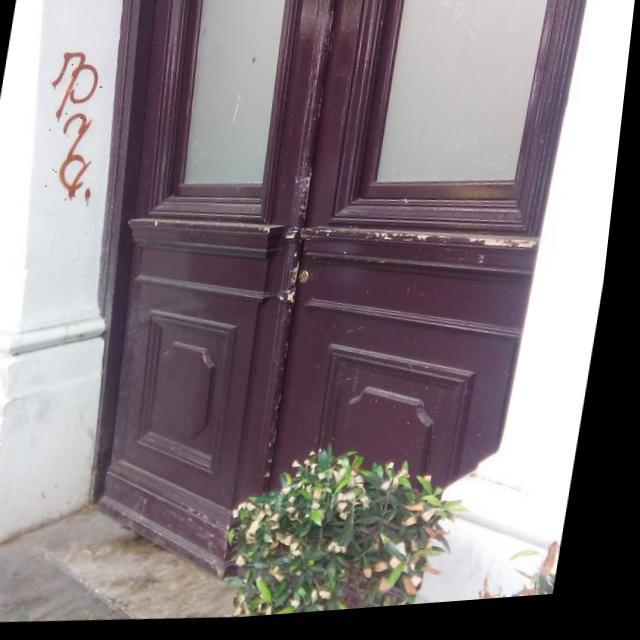-: (36, 52, 122, 206)
